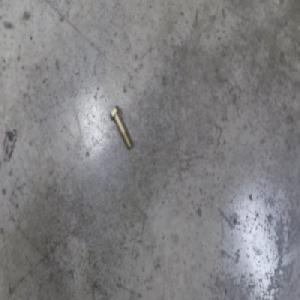Bolt: (112, 106, 135, 151)
